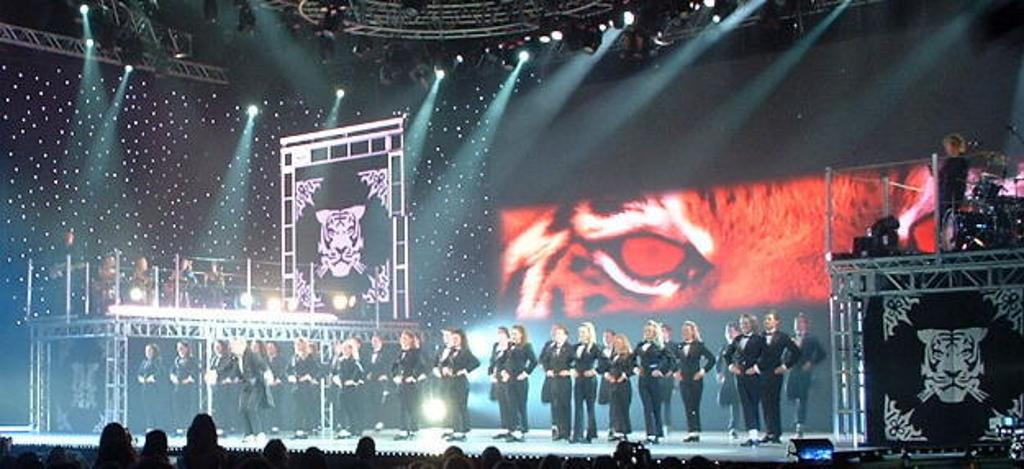face: (726, 326, 737, 343), (763, 314, 774, 329), (739, 318, 750, 332), (681, 325, 691, 338), (794, 318, 804, 330), (177, 344, 186, 357), (555, 329, 564, 342), (579, 327, 588, 340), (511, 329, 519, 342), (213, 342, 222, 352), (644, 328, 653, 338), (145, 346, 153, 357), (266, 343, 274, 354), (603, 333, 611, 344), (344, 343, 352, 353), (614, 339, 622, 349), (401, 335, 408, 346), (552, 326, 559, 337), (659, 328, 666, 339), (371, 337, 378, 347), (452, 335, 459, 345), (443, 331, 449, 342), (296, 340, 303, 349), (497, 330, 504, 339), (252, 343, 258, 352)
